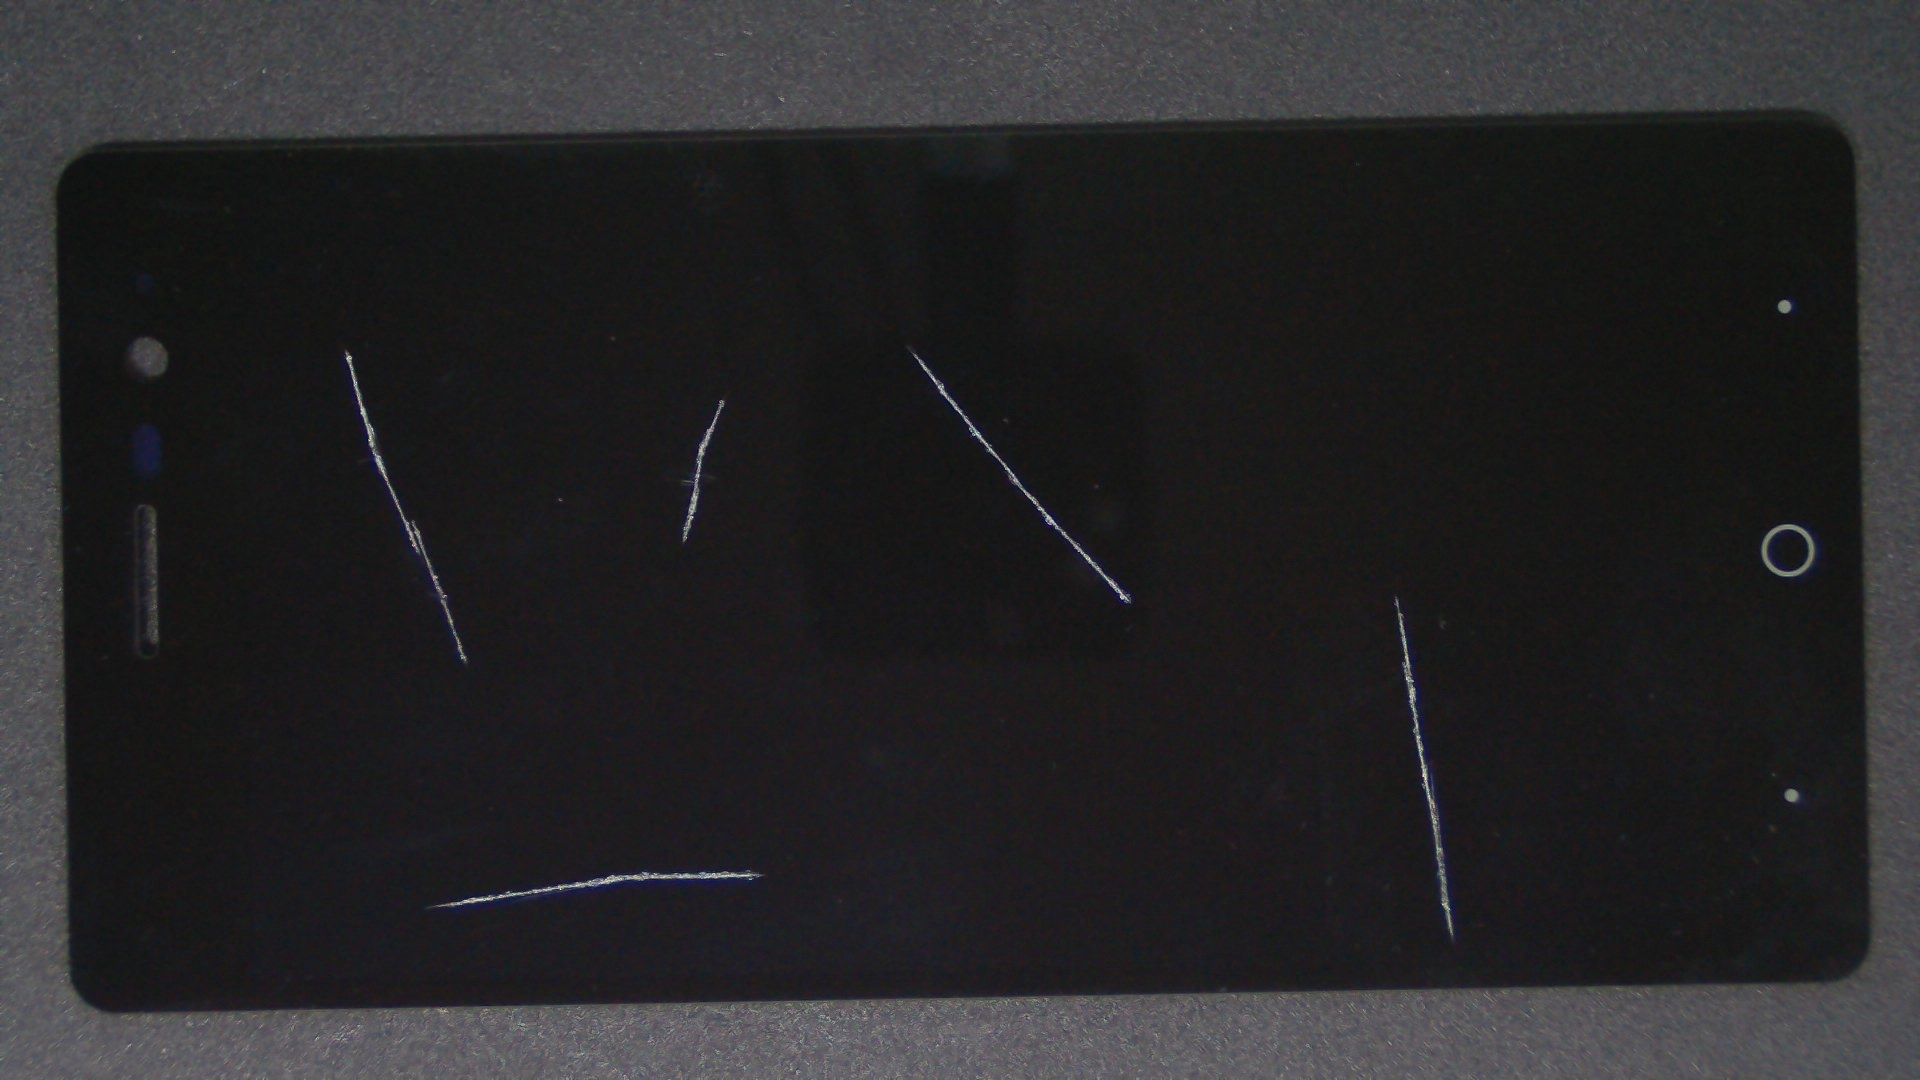oil: (699, 297, 1920, 891), (376, 434, 1126, 1080), (454, 173, 1360, 520), (359, 198, 1077, 599), (171, 169, 516, 527)
